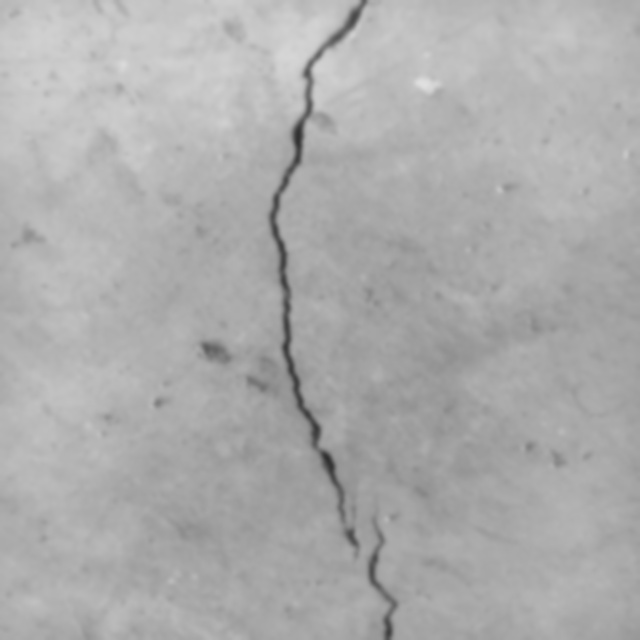SurfaceCrack: (237, 1, 422, 640)
